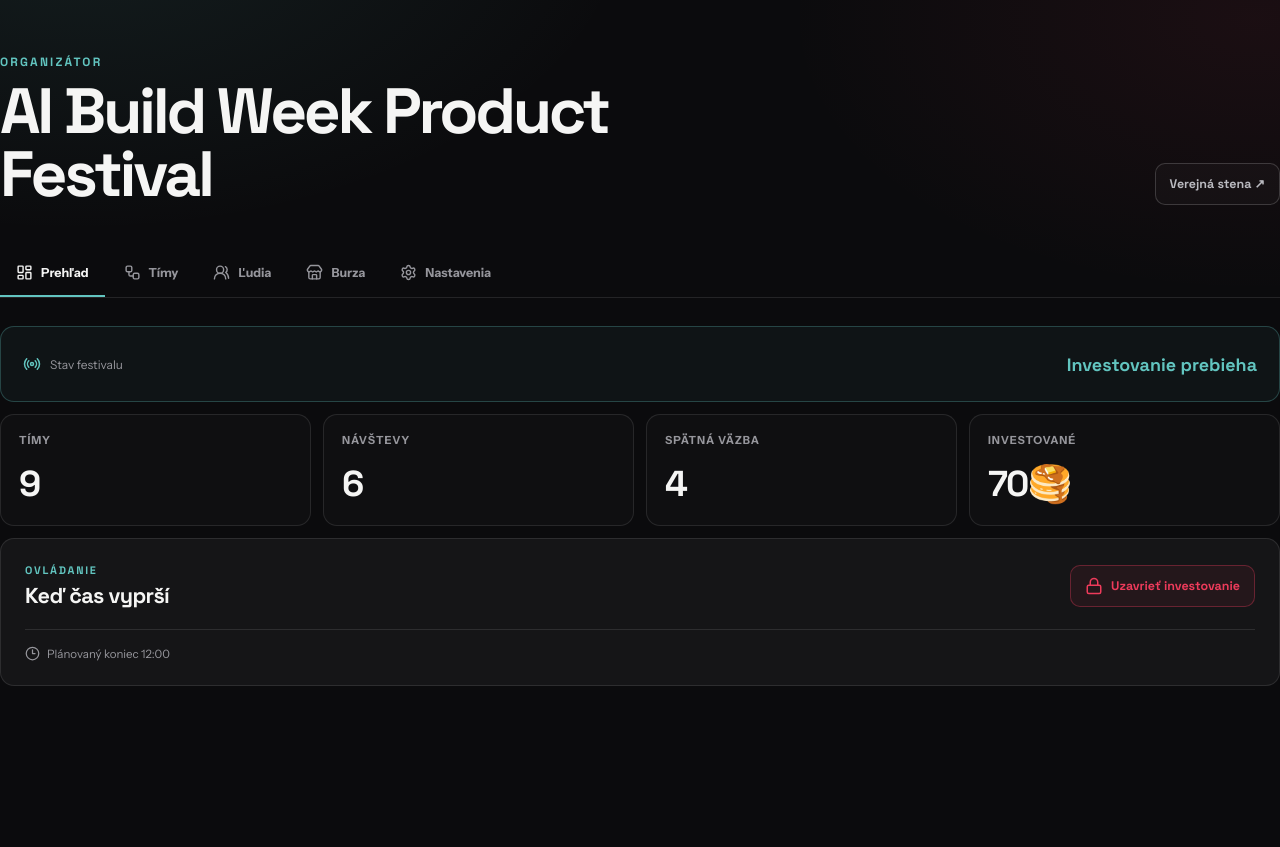
Test: AdminDashboard › opens the private pancake market workflow
The width and height of the screenshot is (1280, 847).
Click the tab "Burza": (336, 273) [290,249,381,297]
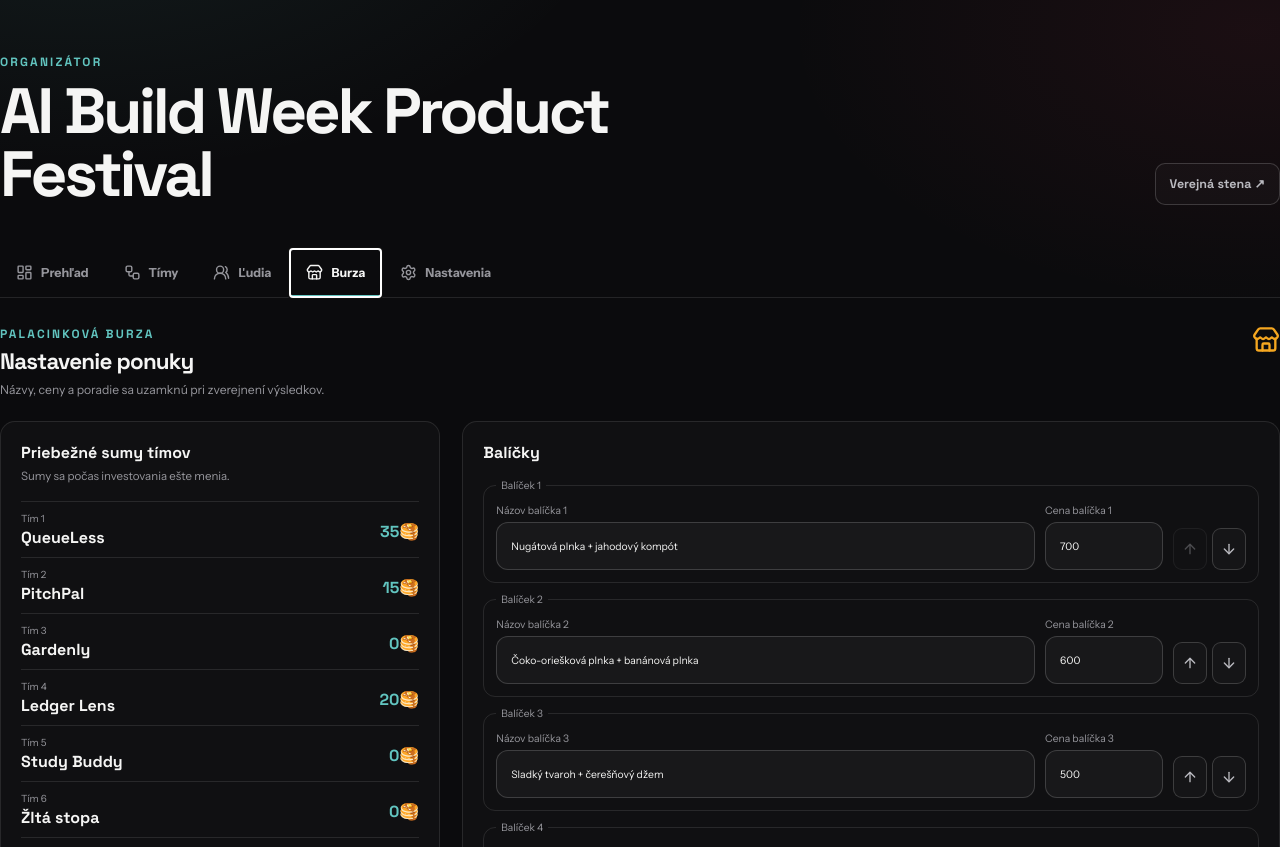
Expected: the heading "Priebežné sumy tímov" is shown, [21,442,191,463]
Expected: the text "35🥞" is shown, [380,521,419,542]
